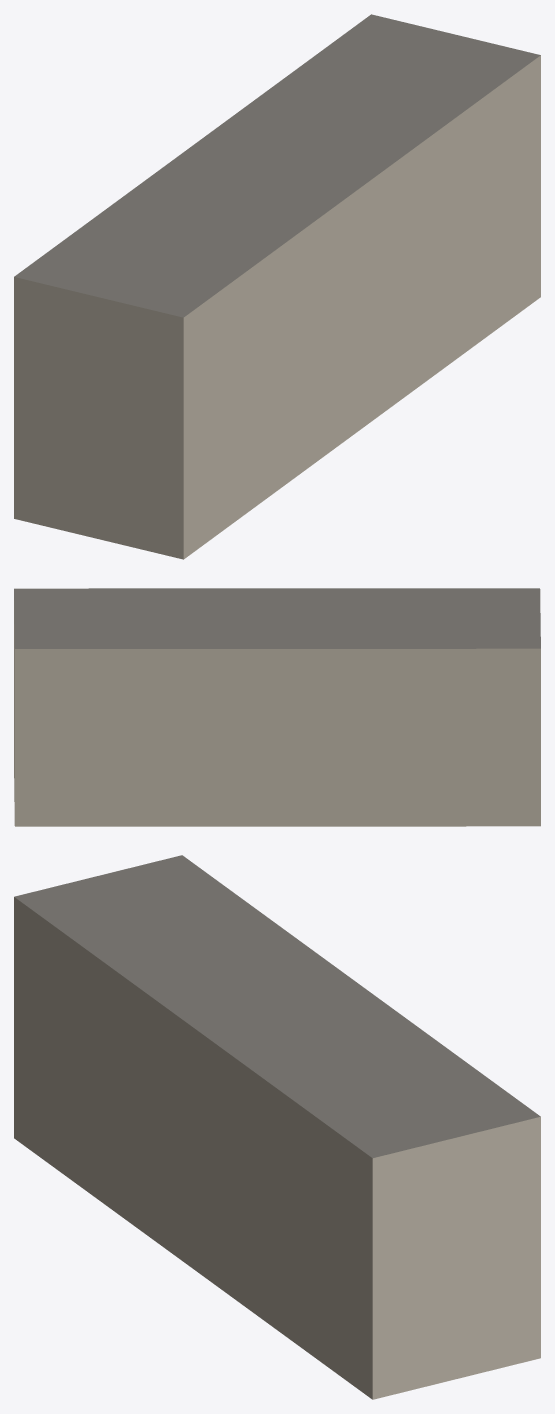
3 renders of one model, top to bottom at view 1: azimuth 30°, elevation 25°; view 2: azimuth 150°, elevation 25°; view 3: azimuth 270°, elevation 25°, orthographic. The views are drawn at different scales.
Visible parts, largest first — view 1: HP-w859488799; view 2: HP-w859488799; view 3: HP-w859488799.
Boxes of the visible parts, bbox=[...] form: HP-w859488799: bbox=[14, 14, 540, 559]; HP-w859488799: bbox=[14, 588, 540, 826]; HP-w859488799: bbox=[14, 855, 540, 1399].
Bounding box in the file's own units: 48.45 × 18 × 35.59.
